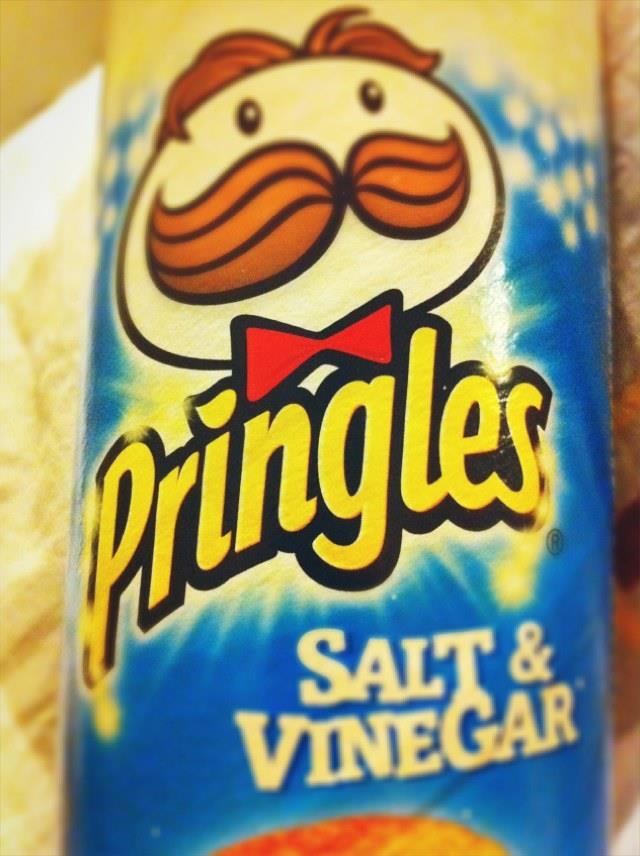pringles: (73, 12, 563, 703)
